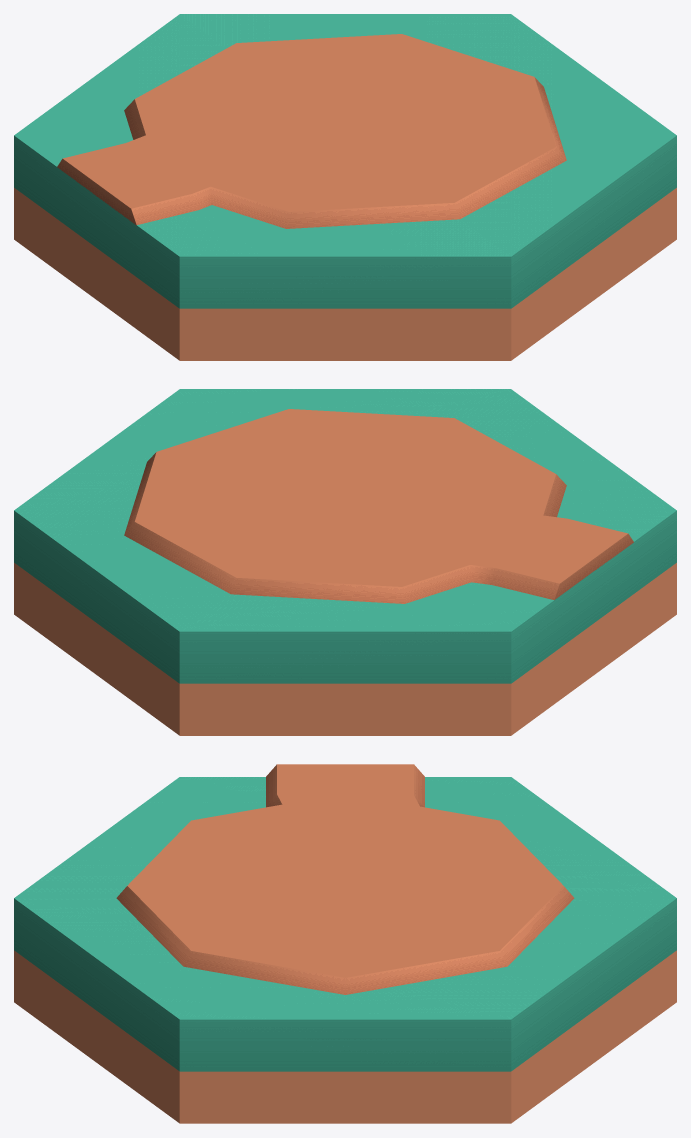
The model's file is grass-path-square-end.glb.
3 renders of one model, top to bottom at view 1: azimuth 30°, elevation 25°; view 2: azimuth 150°, elevation 25°; view 3: azimuth 270°, elevation 25°, orthographic.
Parts seen in each view (by area): view 1: grass, path-square-end; view 2: grass, path-square-end; view 3: grass, path-square-end.
Boxes of the visible parts, <box> form: grass: <box>14,14,676,360</box>; path-square-end: <box>57,34,566,228</box>; grass: <box>14,389,676,735</box>; path-square-end: <box>124,409,633,603</box>; grass: <box>14,777,676,1123</box>; path-square-end: <box>116,764,574,994</box>.
Bounding box in the file's own units: 1 × 0.224 × 1.15.
1 material, 1 textured.
